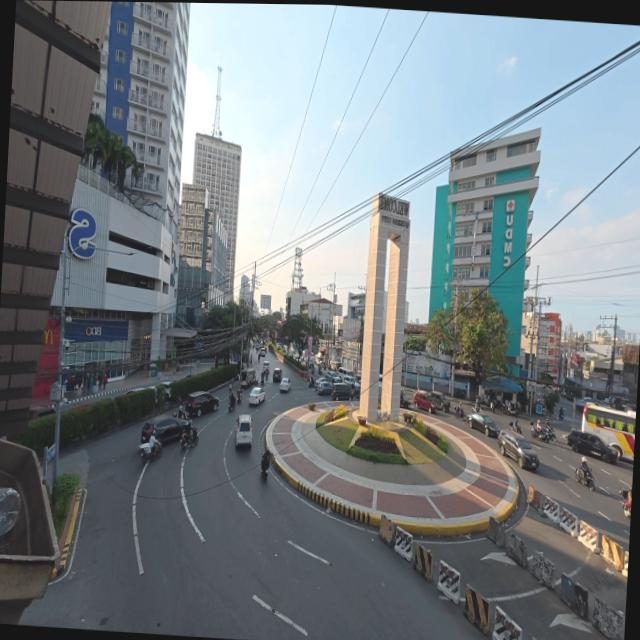Jeepneys: (239, 368, 256, 388)
bus: (581, 404, 635, 459)
car: (566, 429, 618, 464), (497, 431, 538, 468), (140, 417, 180, 443), (185, 392, 218, 416), (466, 413, 499, 437), (234, 415, 251, 448), (412, 390, 435, 413), (429, 390, 449, 413), (331, 382, 351, 400), (28, 406, 54, 419), (248, 388, 264, 405), (316, 380, 331, 395), (325, 371, 340, 384), (315, 377, 331, 387), (279, 377, 290, 390), (342, 376, 354, 387), (272, 368, 281, 382), (351, 381, 360, 395), (262, 360, 270, 370), (355, 370, 361, 381), (259, 347, 265, 356), (293, 353, 298, 360), (276, 343, 281, 349)
motorcycle: (180, 423, 198, 450), (139, 443, 161, 464), (529, 421, 549, 443), (575, 469, 594, 490), (619, 489, 630, 517), (489, 397, 505, 411), (454, 405, 466, 421), (508, 422, 522, 435), (260, 461, 268, 480), (227, 394, 235, 411), (506, 404, 517, 416), (439, 401, 449, 413), (546, 428, 555, 441), (472, 402, 480, 412), (308, 378, 315, 389), (236, 390, 240, 405), (558, 409, 563, 420), (264, 371, 267, 380), (257, 354, 259, 362)
vans: (337, 367, 353, 379)
